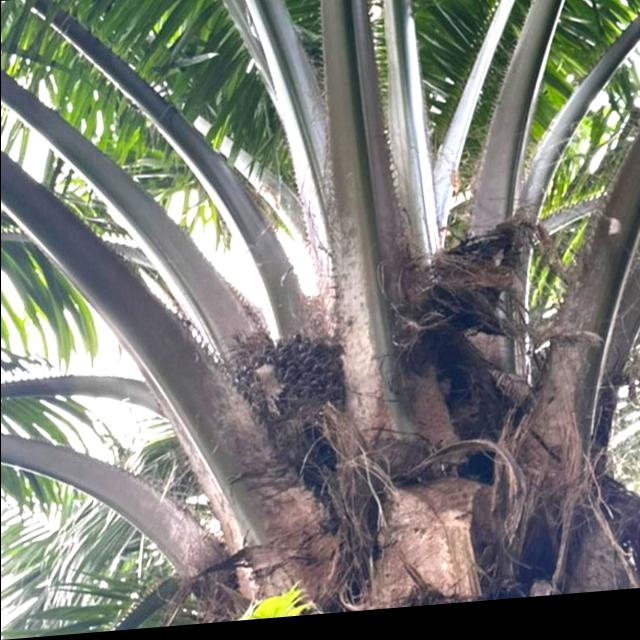ripe: (217, 325, 364, 438)
